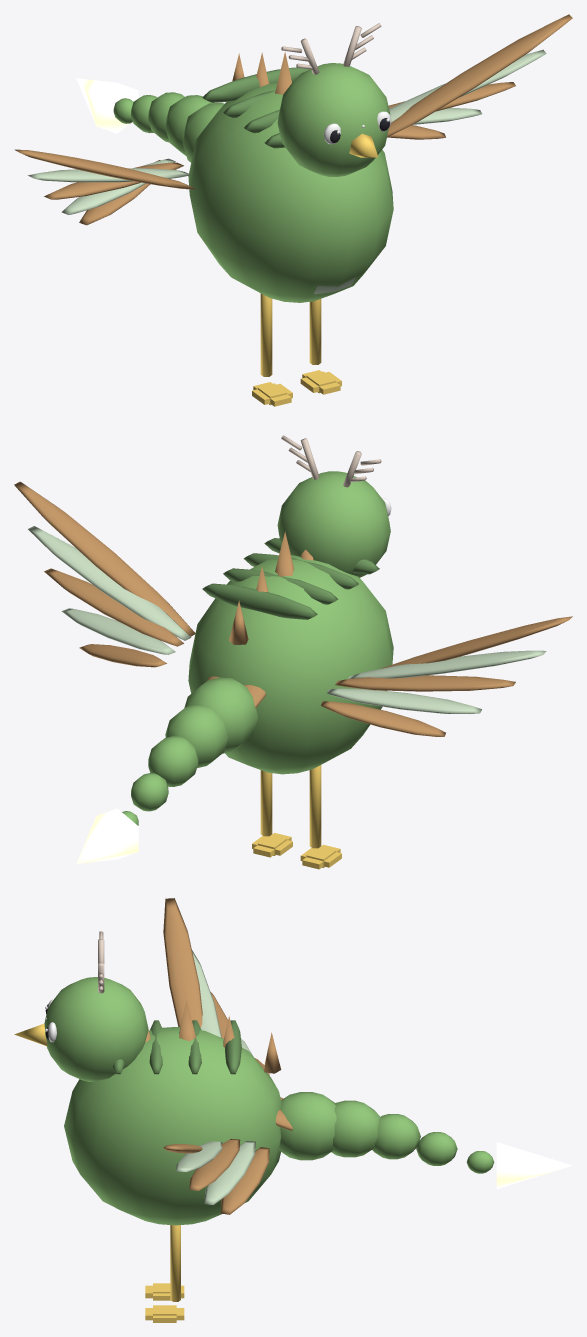
File: forest_eagle_01.glb
3 renders of one model, top to bottom at view 1: azimuth 30°, elevation 25°; view 2: azimuth 150°, elevation 25°; view 3: azimuth 270°, elevation 25°, orthographic. The views are drawn at different scales.
Parts seen in each view (by area): view 1: ball; view 2: ball; view 3: ball.
Boxes of the visible parts, x1=… form: ball: x1=14, y1=14, x2=572, y2=406; ball: x1=14, y1=435, x2=572, y2=869; ball: x1=14, y1=898, x2=572, y2=1322.
Bounding box in the file's own units: 2.72 × 1.8 × 2.57.
